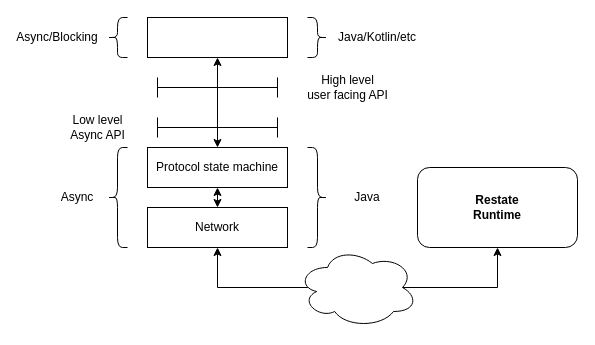
This 595x345 diagram has some shape labels left out. The shapes that lost their labels are listed below. From the top down, each one's box as (x1, y1, x2, y2) in pixels, then its label:
(146, 16, 288, 58): User code
(296, 246, 418, 328): HTTP
